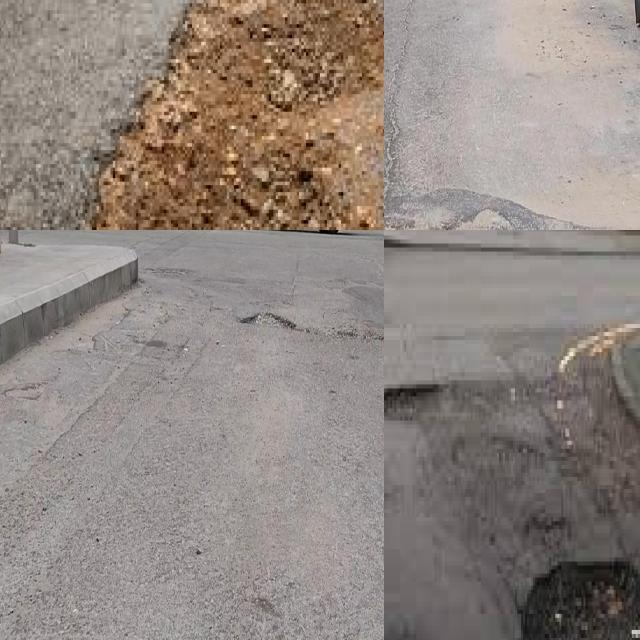Pothole: (83, 0, 384, 230), (86, 0, 384, 230), (238, 307, 297, 331)
